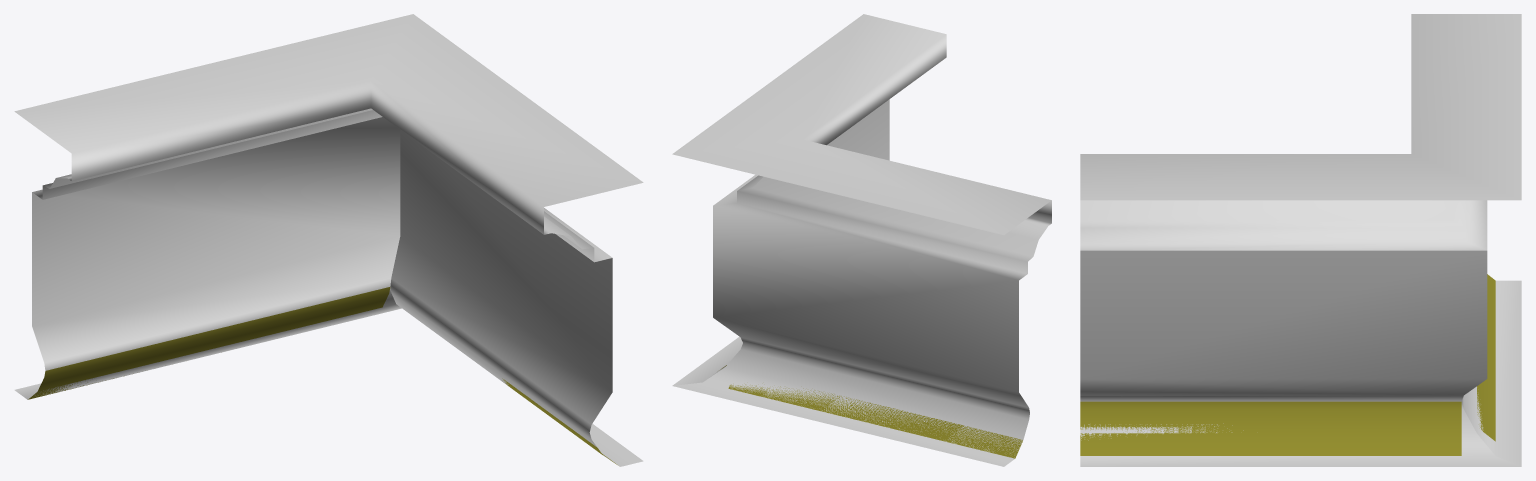
File: SM_FriezeACornerInner1.5m.fbx
The picture shows the model from 3 angles, left to right: view 1: azimuth 30°, elevation 25°; view 2: azimuth 150°, elevation 25°; view 3: azimuth 270°, elevation 25°; orthographic projection. The views are drawn at different scales.
Visible parts, largest first — view 1: SM_FriezeACornerInner1.5m; view 2: SM_FriezeACornerInner1.5m; view 3: SM_FriezeACornerInner1.5m.
Boxes of the visible parts, x1=… form: SM_FriezeACornerInner1.5m: x1=14, y1=14, x2=643, y2=466; SM_FriezeACornerInner1.5m: x1=672, y1=14, x2=1051, y2=466; SM_FriezeACornerInner1.5m: x1=1080, y1=14, x2=1521, y2=466.
Size of the model in its own units: 150 by 100 by 150.
